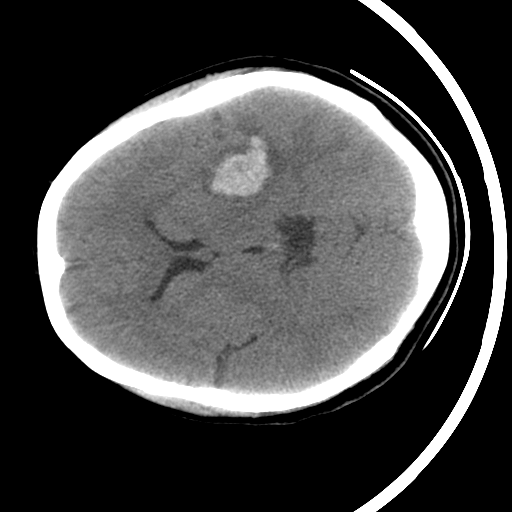a: (187, 113, 295, 215)
